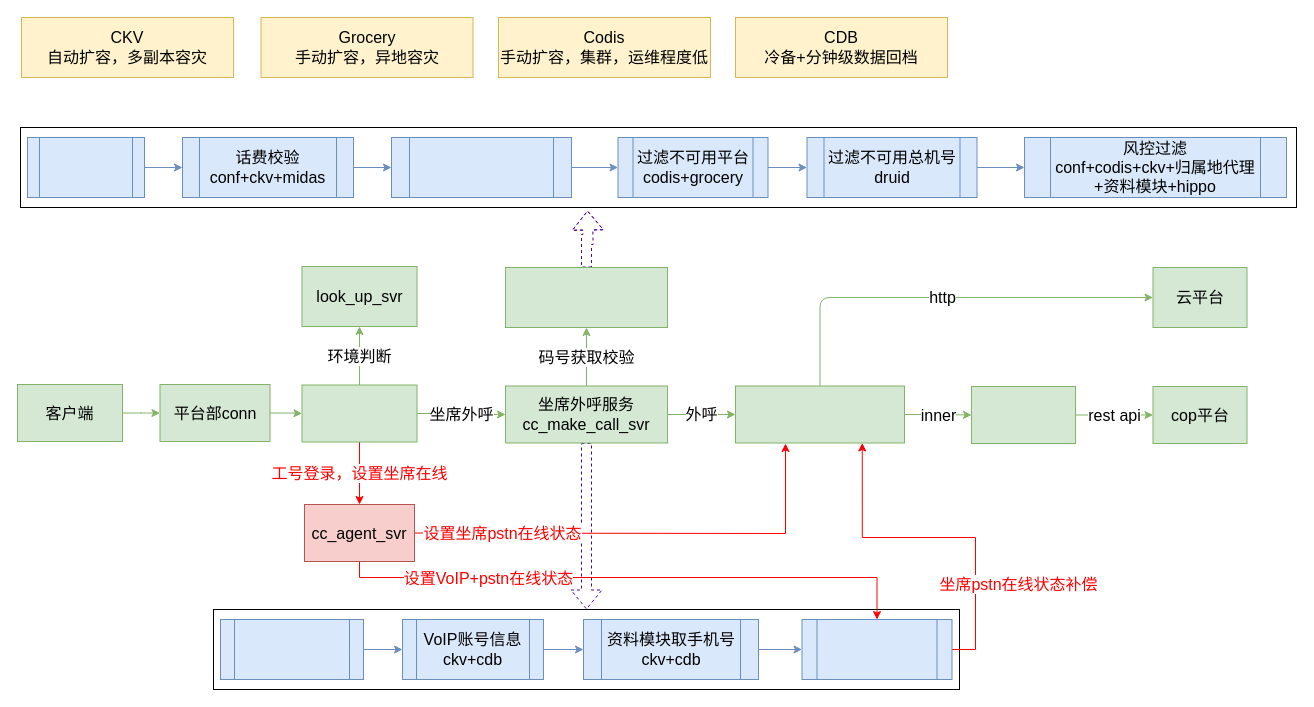
The diagram is 1314 pixels wide and 707 high, and some of its shapes have lost their labels. The centre of each missing label's shape, as x and y in pixels:
cop_trans: the point at 1023,415
cs_interface: the point at 359,413
命令适配 cmd_adapter: the point at 819,414
坐席在线状态 grocery+补偿: the point at 876,649
坐席基本信息 codis+cdb: the point at 292,649
外呼控制 cc_dial_control: the point at 586,297
筛符合产品总机号 codis: the point at 481,167
黑名单控制 ckv+cdb: the point at 85,167
